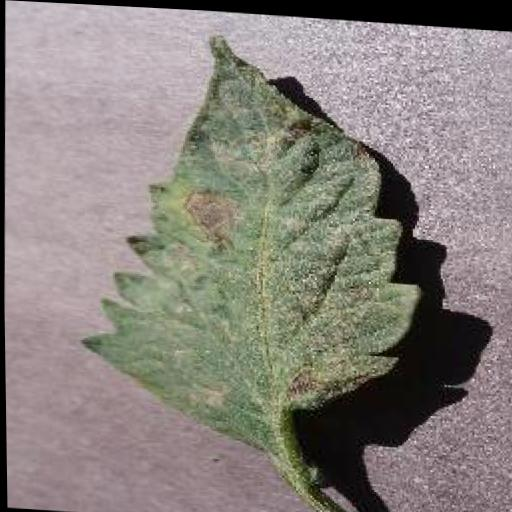Early Blight: (84, 21, 424, 459)
